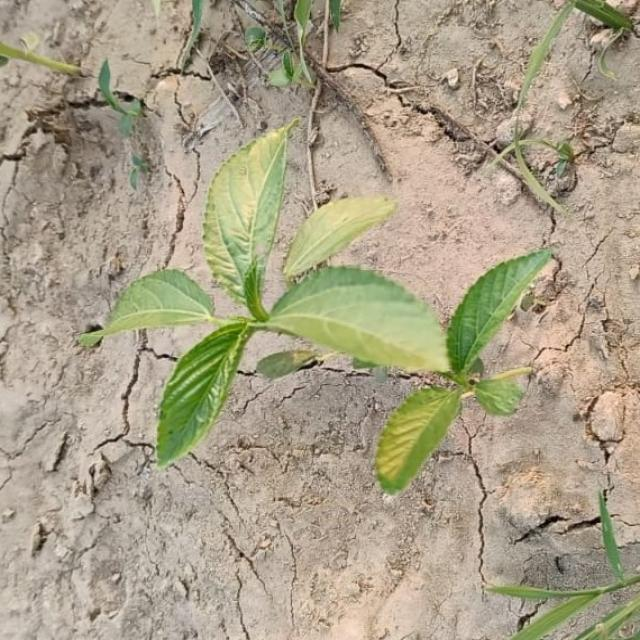plant: (80, 121, 552, 493)
